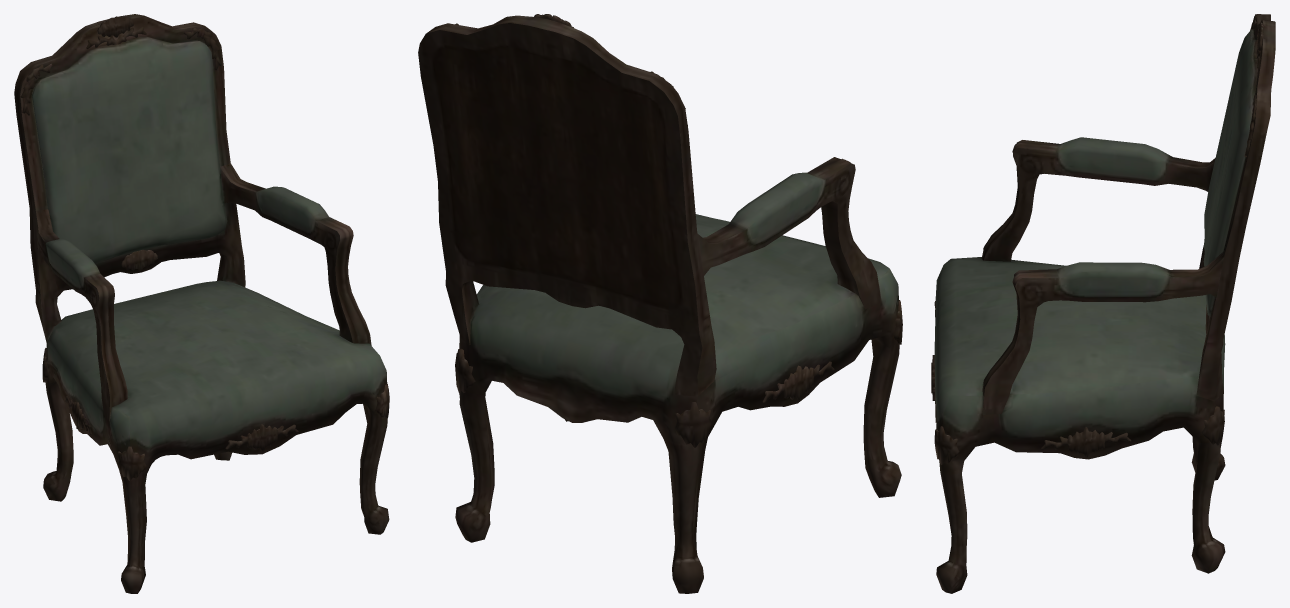
File: GreenChair_01.glb
3 views of the same model, side by side, from view 1: azimuth 30°, elevation 25°; view 2: azimuth 150°, elevation 25°; view 3: azimuth 270°, elevation 25° (orthographic). The views are drawn at different scales.
Parts seen in each view (by area): view 1: GreenChair_01; view 2: GreenChair_01; view 3: GreenChair_01.
Boxes of the visible parts, left/top/right/bottom form: GreenChair_01: left=14, top=14, right=389, bottom=593; GreenChair_01: left=418, top=14, right=902, bottom=593; GreenChair_01: left=931, top=14, right=1275, bottom=593.
Size of the model in its own units: 0.6731 by 1.06 by 0.6644.
Materials: 1 (1 with a texture image).
